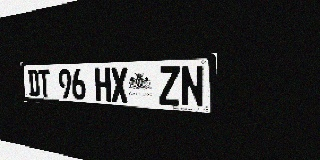6: (71, 68, 86, 100)
9: (58, 69, 72, 99)
D: (28, 69, 40, 97)
H: (95, 68, 111, 102)
N: (180, 65, 204, 108)
T: (38, 69, 51, 98)
X: (110, 67, 129, 103)
Z: (158, 66, 180, 106)
